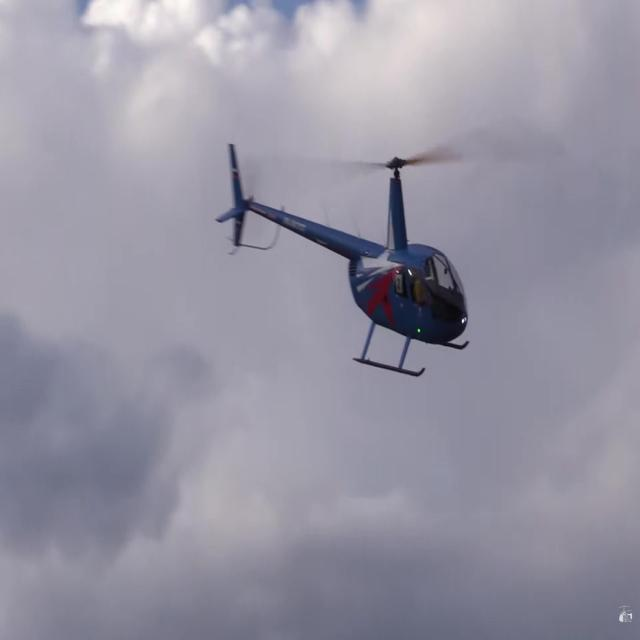CIV_HELO: (214, 139, 471, 380)
